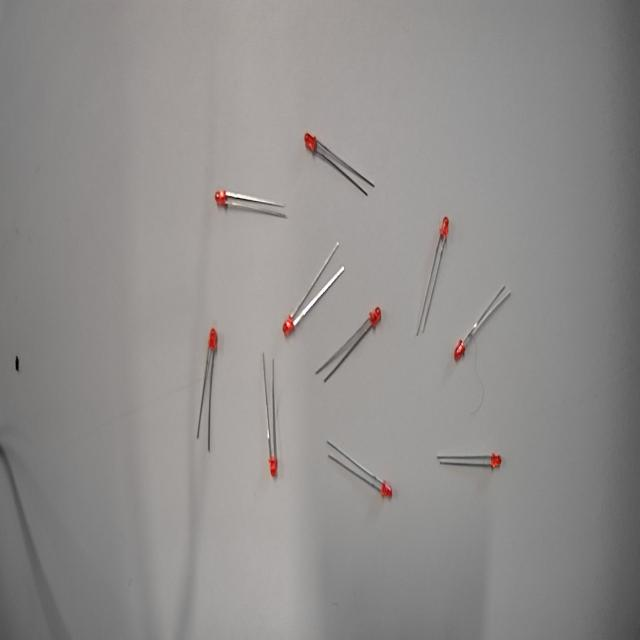LED_red: (481, 428, 517, 492), (366, 464, 404, 516), (356, 292, 391, 347), (291, 120, 335, 163), (431, 205, 462, 263), (260, 433, 292, 486), (200, 322, 229, 379), (275, 295, 305, 349), (446, 327, 481, 373), (207, 178, 239, 225)
